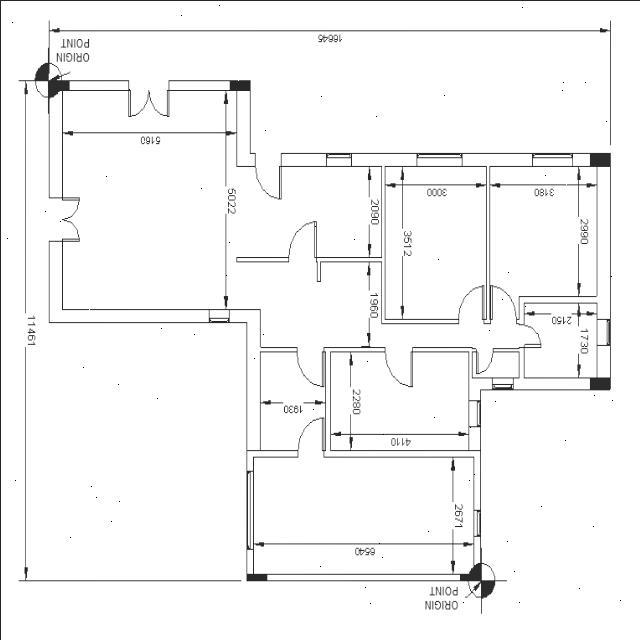Column: (589, 152, 610, 166), (589, 376, 610, 389), (47, 79, 69, 90), (228, 79, 250, 90), (459, 572, 481, 580), (246, 572, 266, 580)
Door: (254, 152, 281, 198), (288, 220, 316, 262), (384, 346, 412, 386), (296, 346, 324, 386), (297, 416, 323, 456), (490, 284, 516, 324), (458, 286, 483, 324), (518, 323, 540, 347), (474, 347, 492, 373)
Double-Door: (128, 79, 168, 116), (48, 197, 79, 240)
Window: (416, 152, 462, 166), (245, 470, 253, 549), (531, 152, 572, 166), (596, 318, 610, 345), (325, 152, 351, 166), (468, 400, 480, 426), (208, 308, 228, 322), (492, 376, 512, 389), (472, 510, 480, 536)
